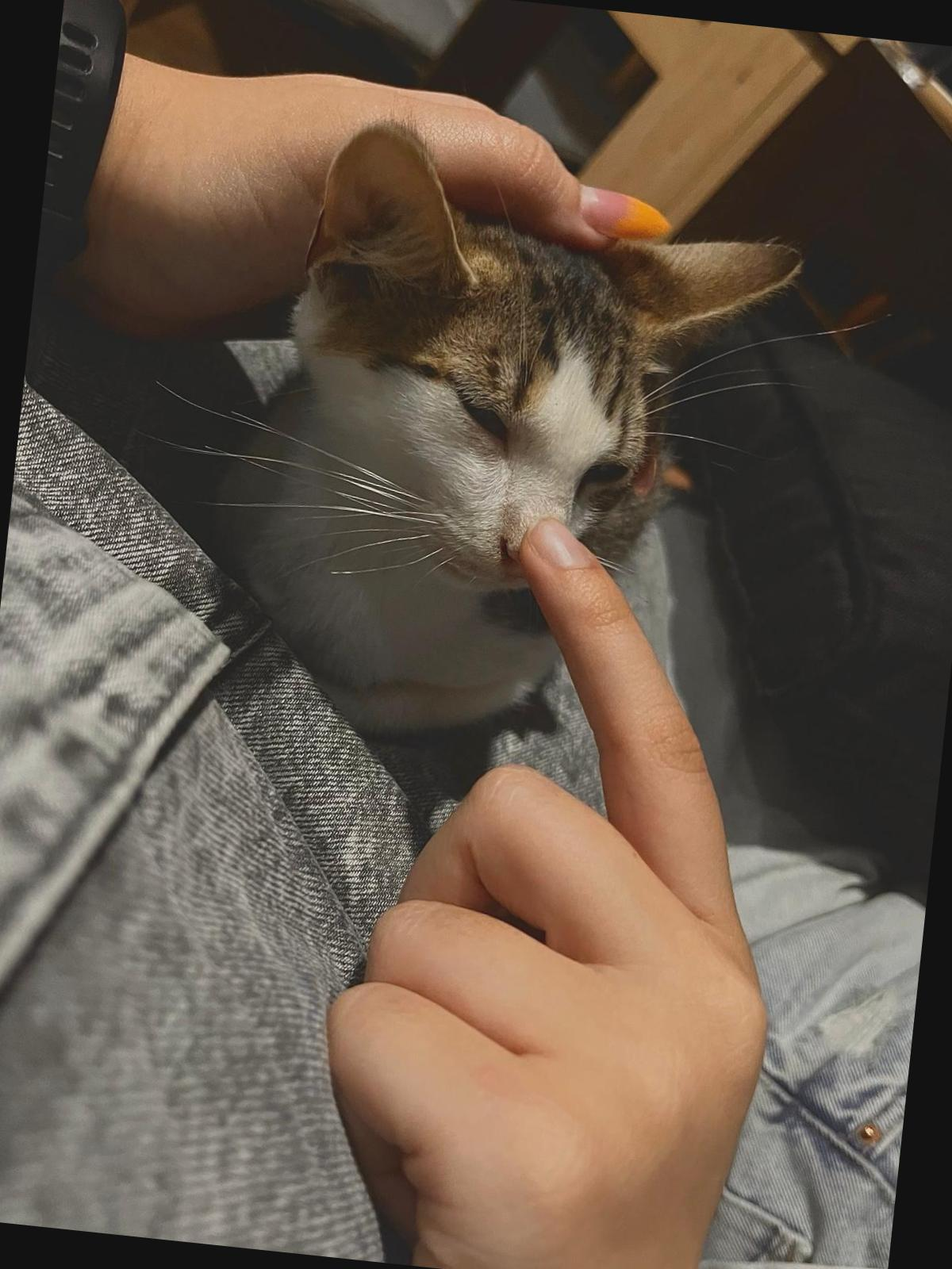macka: (189, 110, 825, 777)
